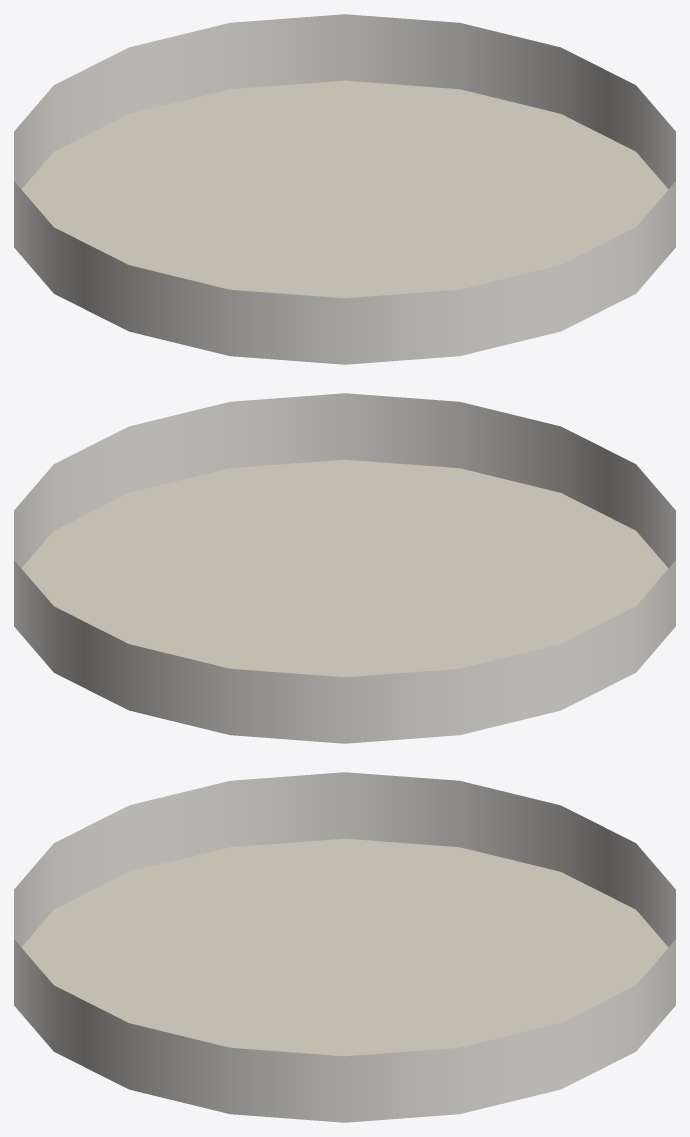
Rendered from SM_Downlight.fbx.
3 renders of one model, top to bottom at view 1: azimuth 30°, elevation 25°; view 2: azimuth 150°, elevation 25°; view 3: azimuth 270°, elevation 25°, orthographic.
Parts seen in each view (by area): view 1: SM_Downlight; view 2: SM_Downlight; view 3: SM_Downlight.
Boxes of the visible parts, box(x1,y1,x2,y2) form: SM_Downlight: box(14, 14, 675, 364); SM_Downlight: box(14, 393, 675, 743); SM_Downlight: box(14, 772, 675, 1122).
Size of the model in its own units: 11 by 1.2 by 10.83.
